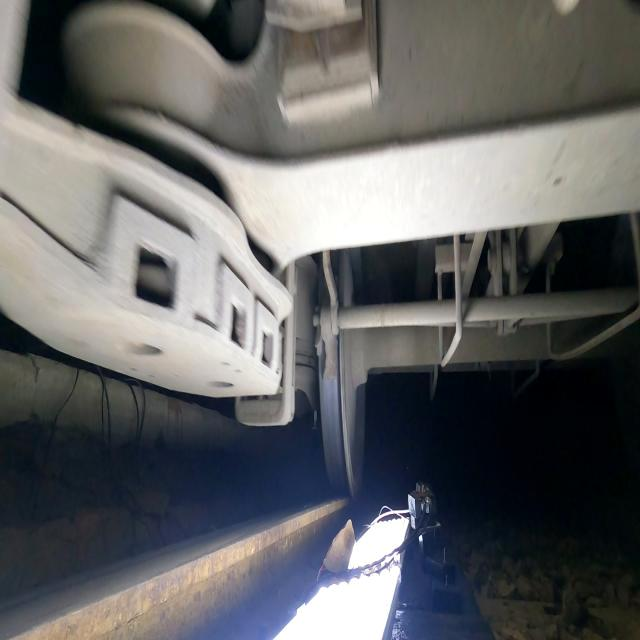Wheel: (319, 331, 365, 498)
